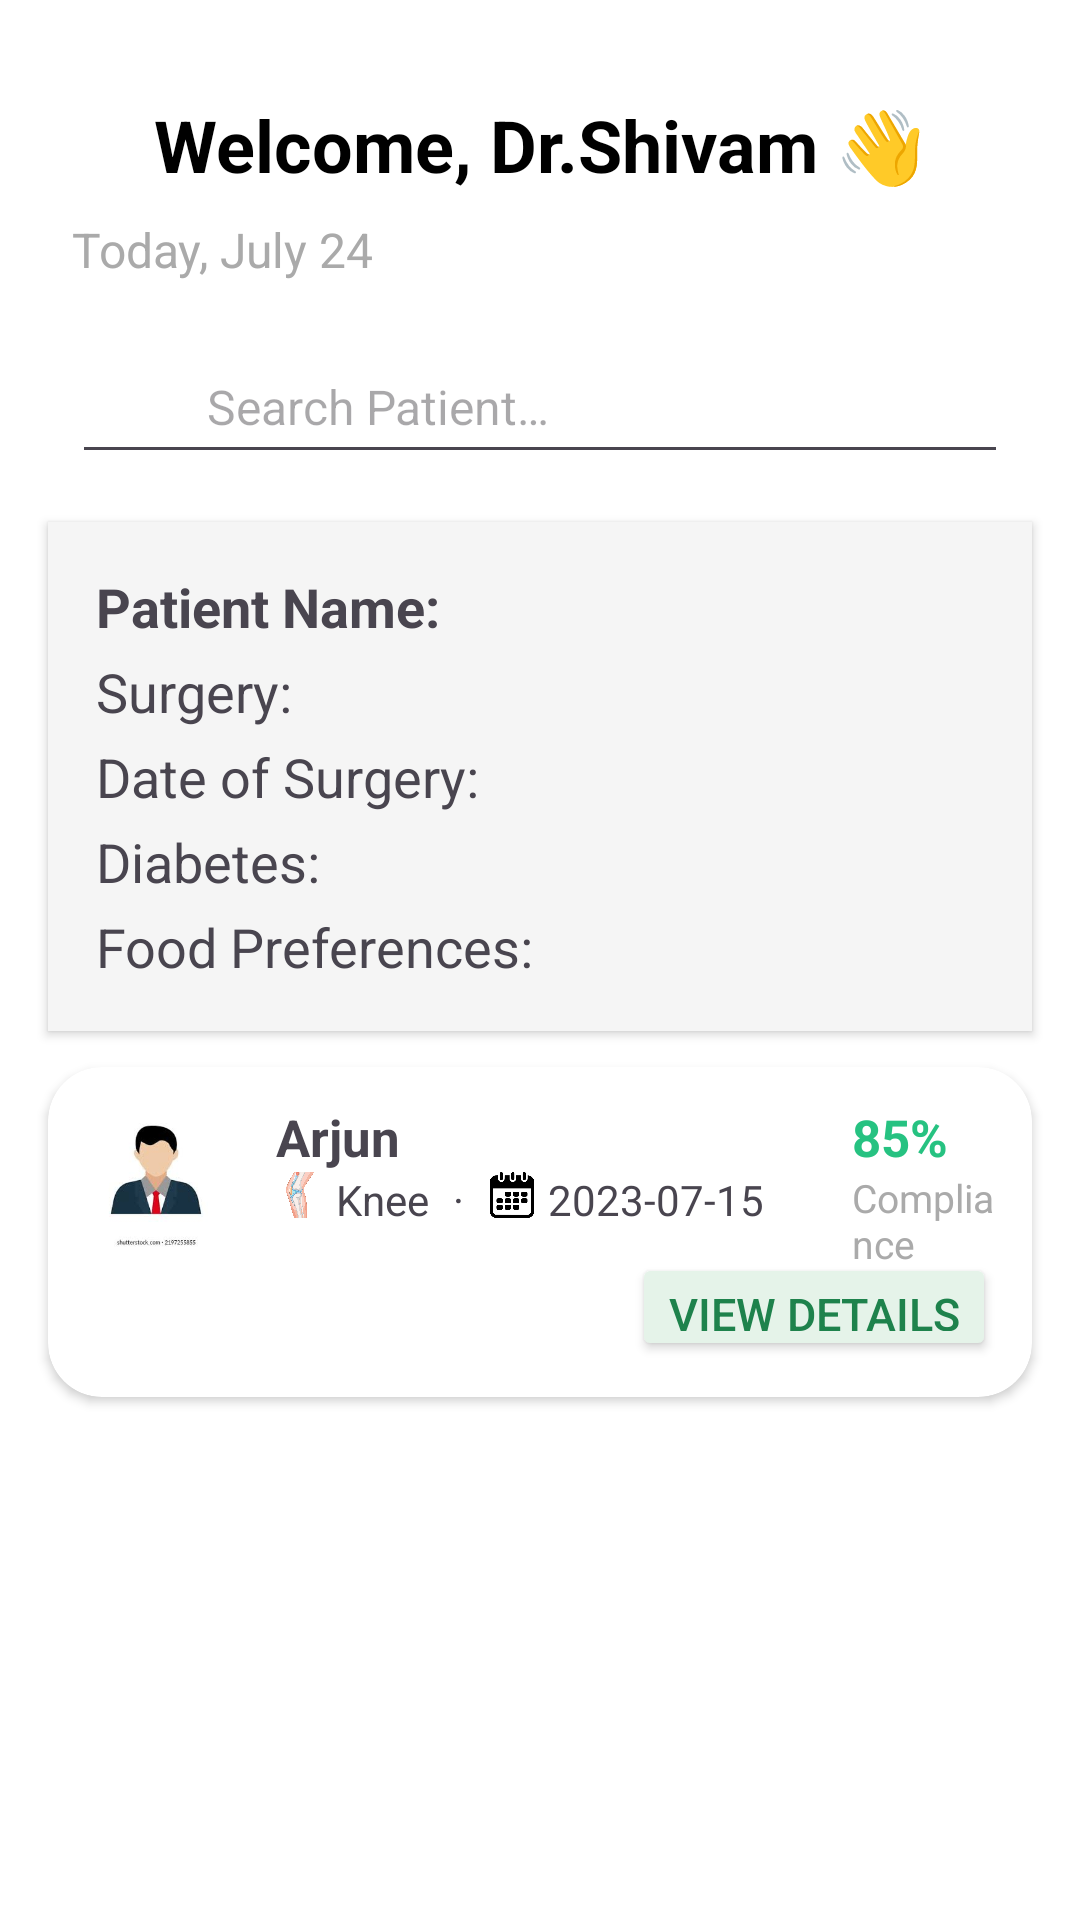

Screen size 1080px×1920px. Icon name, then its box in pixels as {"left": x1, "top": y1, "right": x2, "bottom": y2}:
calendar: {"left": 490, "top": 1172, "right": 534, "bottom": 1218}
mens: {"left": 110, "top": 1125, "right": 202, "bottom": 1246}
